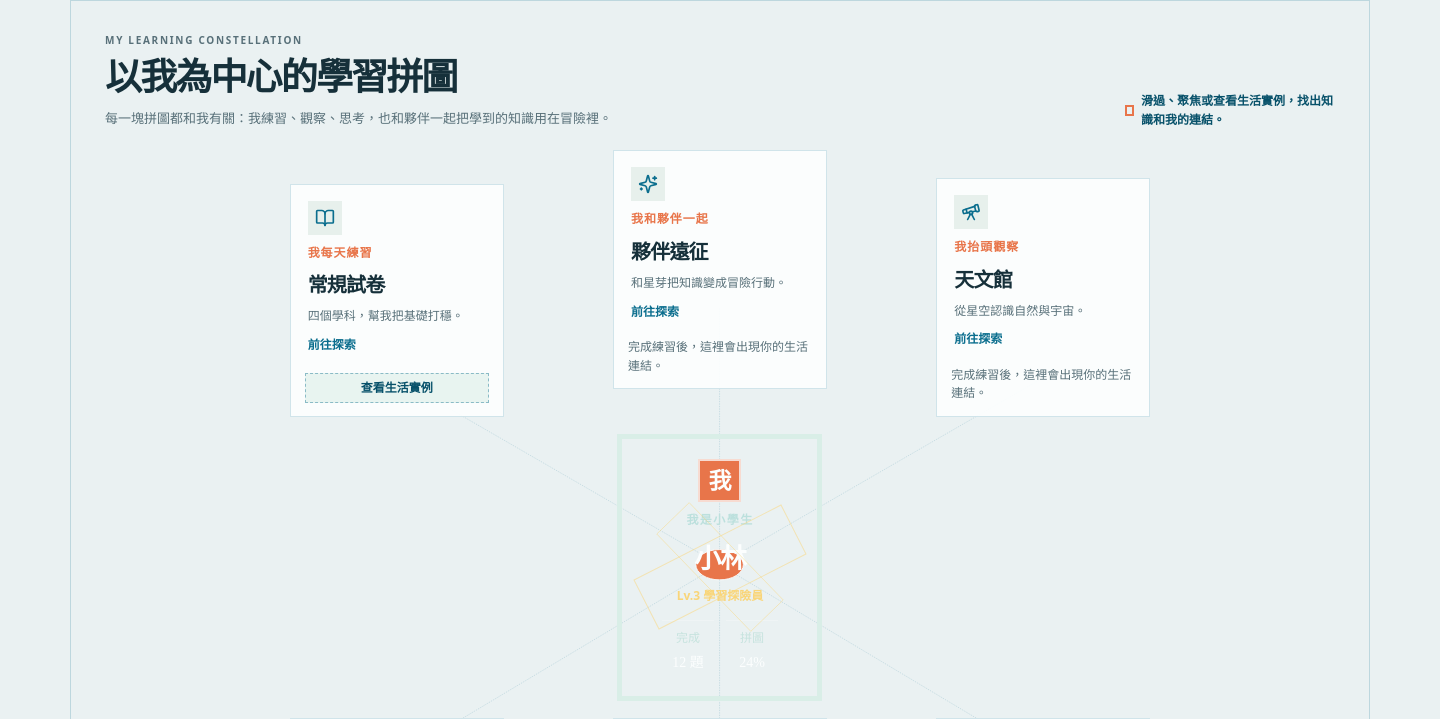
Test: StudentRelationMap › shows the supplied life example on hover and closes it when the pointer leaves
The width and height of the screenshot is (1440, 719).
Hover over the element with test id "student-relation-node-exam" at (397, 300), box [290,184,504,417]
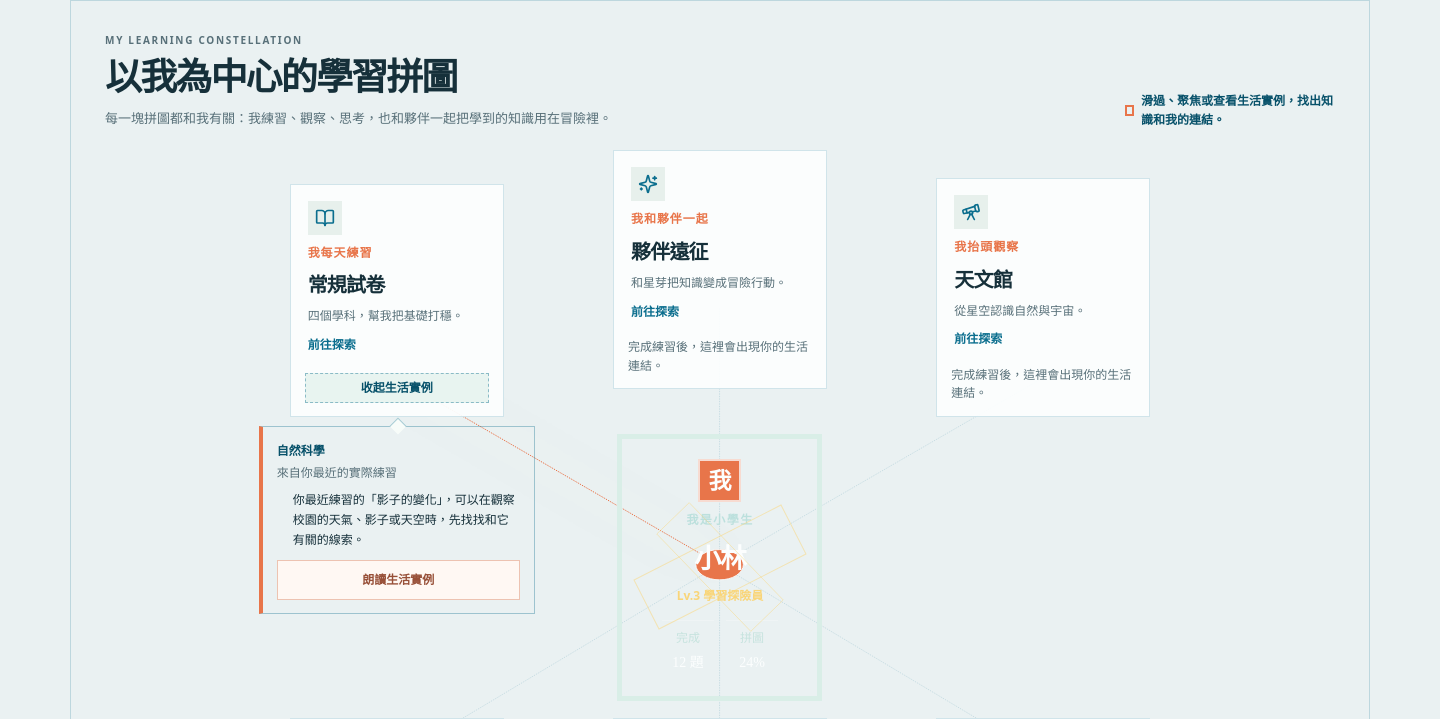
Check: the tooltip named "常規試卷的生活連結" shows "影子的變化", box [293,491,515,548]
Check: the tooltip named "常規試卷的生活連結" shows "來自你最近的實際練習", box [277,464,397,481]
Move the pointer off the element with test id "student-relation-node-exam", box [290,184,504,417]
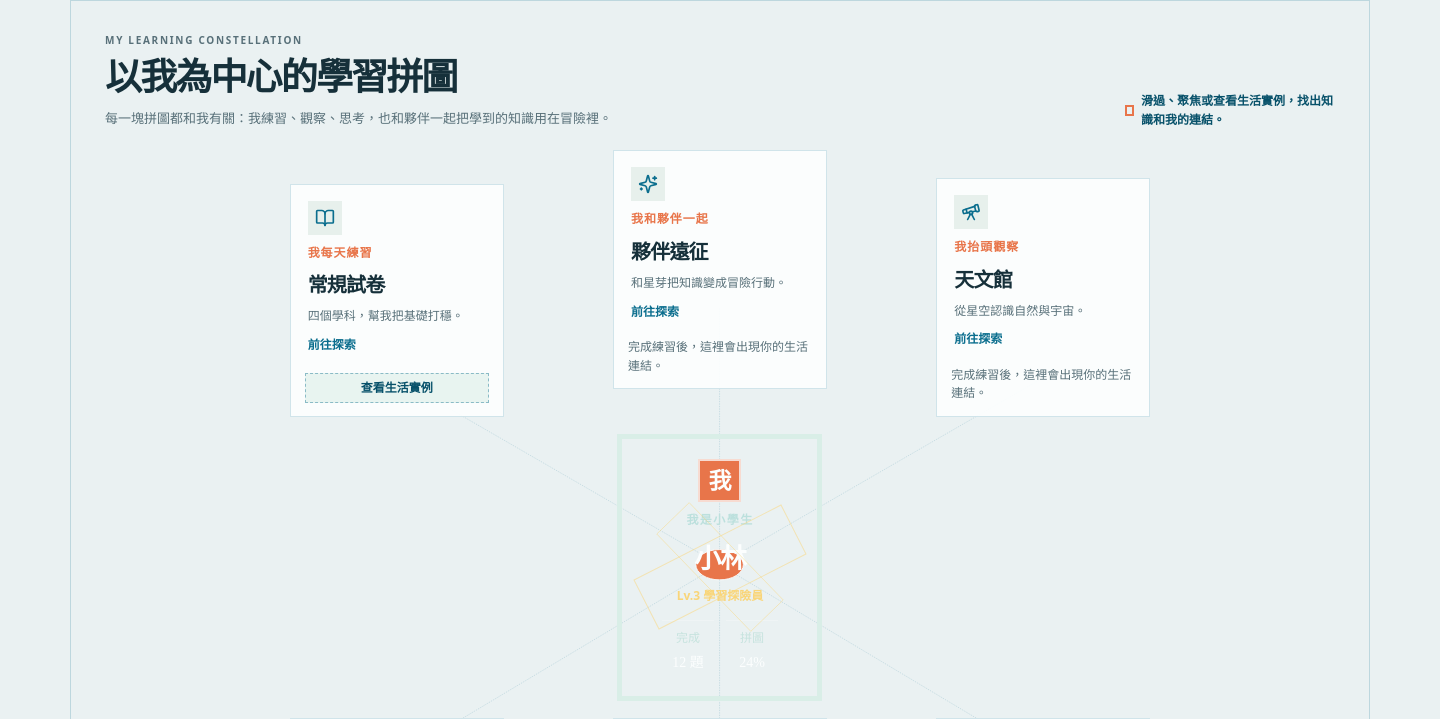
Check: the tooltip "常規試卷的生活連結" is gone
